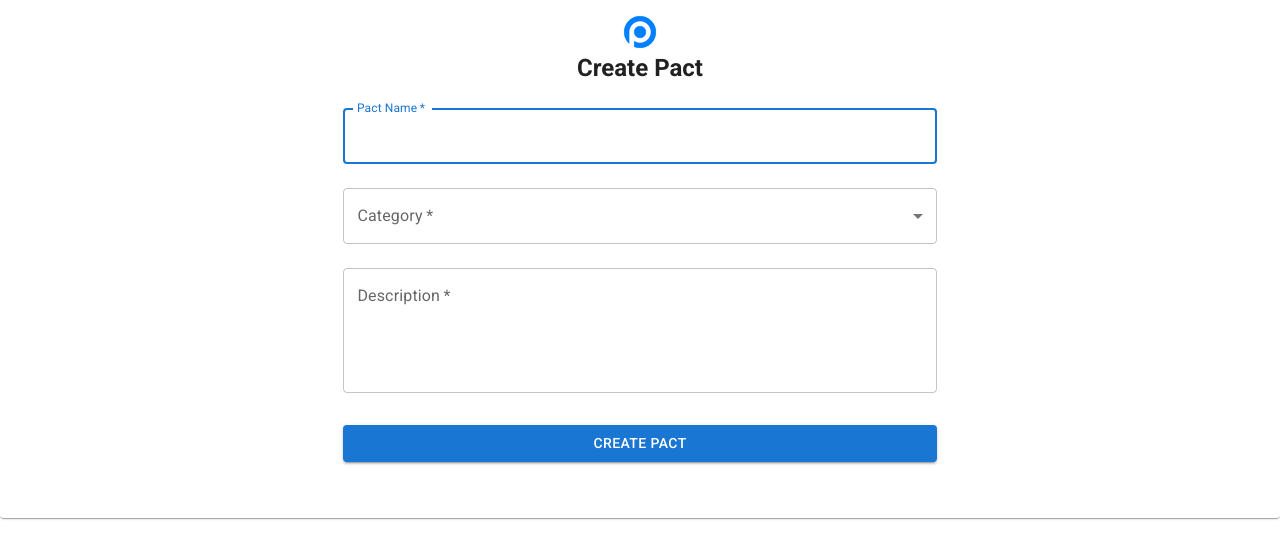
Test: CreatePact Tests › Check interaction with elements › should return error when invalid Pact name is entered and Create Pact button is pressed with invalid input
Check: the text "Provide the name" is not shown
Step 1. Click the button "Create Pact" → (640, 443), box [343,425,937,462]
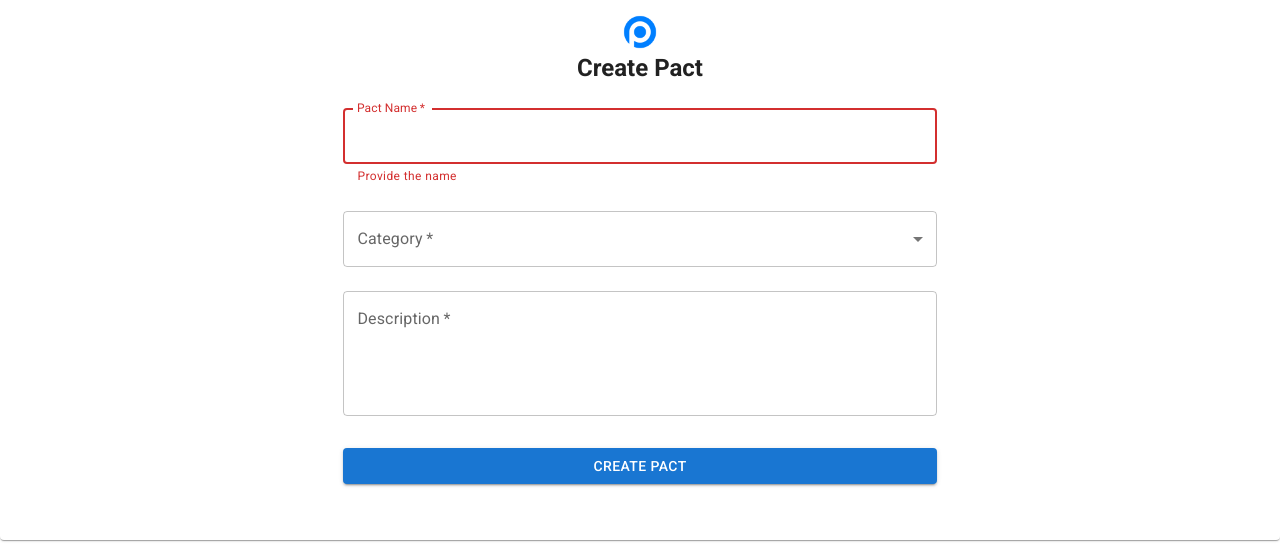
Check: the text "Provide the name" is shown, box [357,169,457,183]
